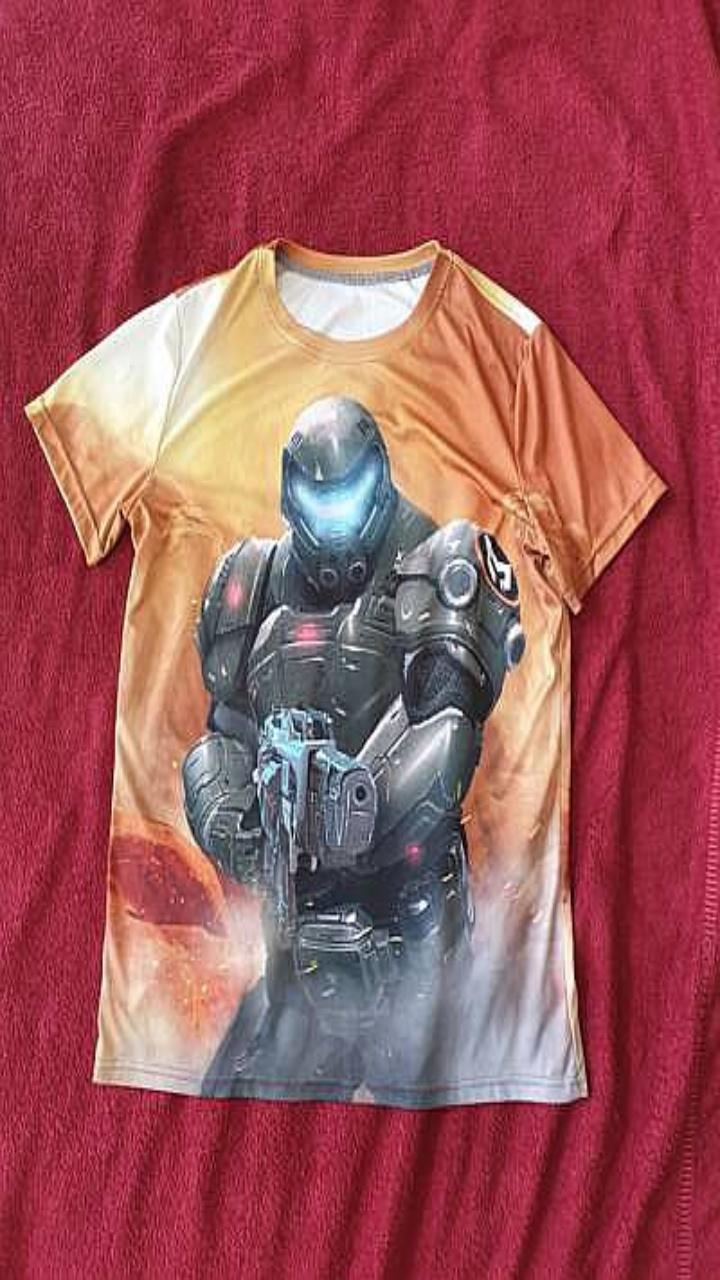T-Shirt: (25, 237, 666, 1107)
